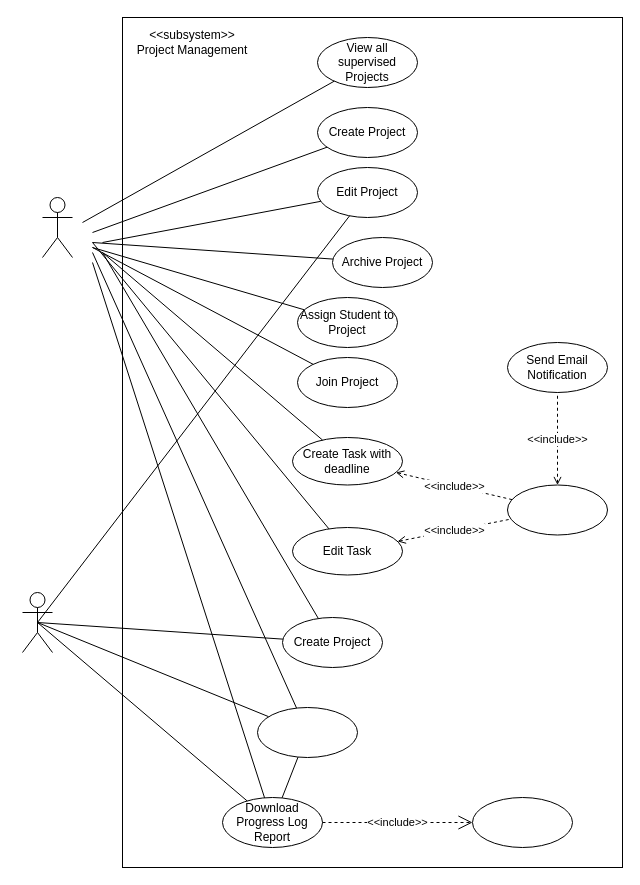
The diagram is 640 pixels wide and 885 high, and some of its shapes have lost their labels. The shapes that lost their labels are listed below. From the top down, each one's box as (x1, y1, x2, y2) in pixels, then its label:
(42, 196, 72, 258): Supervisor
(506, 484, 608, 535): Create Reminder
(22, 592, 52, 652): Student
(256, 706, 358, 758): View Project
(472, 796, 572, 848): Generate Progress Log Report
